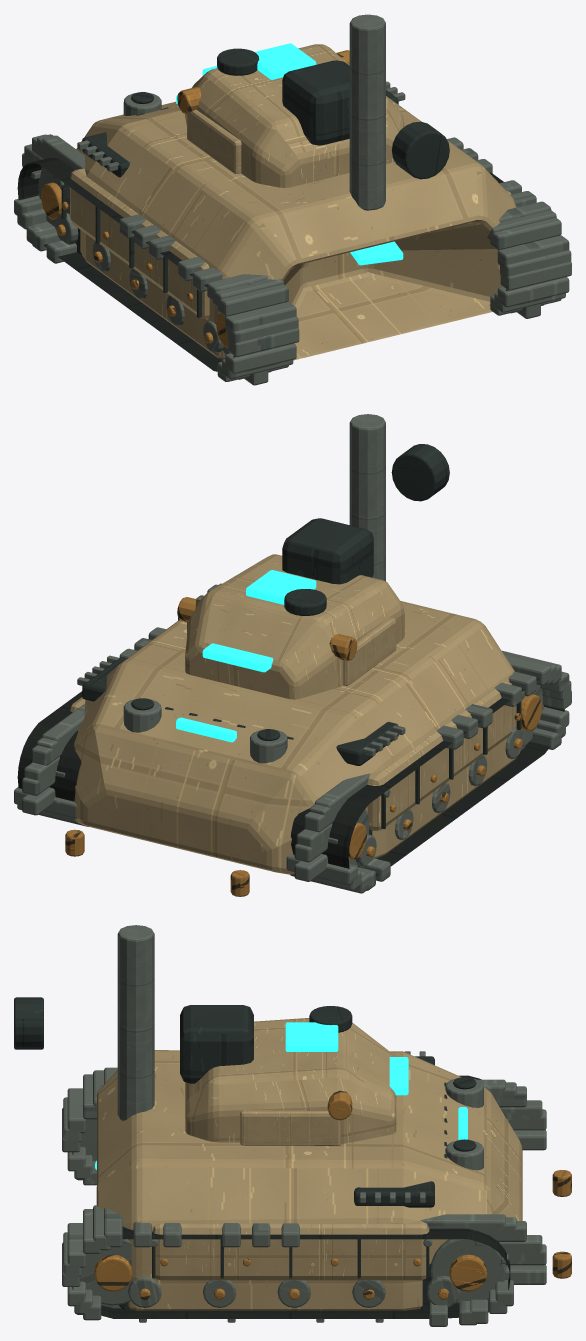
The model's file is tank.glb.
The picture shows the model from 3 angles, top to bottom: view 1: azimuth 30°, elevation 25°; view 2: azimuth 150°, elevation 25°; view 3: azimuth 270°, elevation 25°; orthographic projection.
Visible parts, largest first — view 1: Tank · welded six-facet armored hull, Static · Vehicle / track, Amboss Mbt · faceted traversing gunhouse, Static · Vehicle / dark, Long rifled cannon, Static · Vehicle / armor_light, Static · Vehicle / rubber, Static · Vehicle / steel, Static · Vehicle / hazard, Static · Vehicle / armor_light.001, TeamColor.001, Static · Vehicle / dark.001 (+1 smaller); view 2: Tank · welded six-facet armored hull, Amboss Mbt · faceted traversing gunhouse, Static · Vehicle / track, Static · Vehicle / dark, Static · Vehicle / rubber, Static · Vehicle / armor_light, Static · Vehicle / steel, Long rifled cannon, Static · Vehicle / hazard, TeamColor, Static · Vehicle / armor_light.001, TeamColor.001 (+1 smaller); view 3: Tank · welded six-facet armored hull, Static · Vehicle / track, Amboss Mbt · faceted traversing gunhouse, Static · Vehicle / armor_light, Static · Vehicle / steel, Static · Vehicle / dark, Long rifled cannon, Static · Vehicle / rubber, Static · Vehicle / hazard, Static · Vehicle / armor_light.001, TeamColor.001, TeamColor (+1 smaller).
Part boxes in pixels (<box>): Tank · welded six-facet armored hull: <box>76,96,516,360</box>; Static · Vehicle / track: <box>14,134,571,385</box>; Amboss Mbt · faceted traversing gunhouse: <box>185,44,404,187</box>; Static · Vehicle / dark: <box>61,60,449,317</box>; Long rifled cannon: <box>349,14,385,210</box>; Static · Vehicle / armor_light: <box>70,168,511,319</box>; Static · Vehicle / rubber: <box>17,158,559,371</box>; Static · Vehicle / steel: <box>31,81,551,379</box>; Static · Vehicle / hazard: <box>41,50,349,347</box>; Static · Vehicle / armor_light.001: <box>187,98,396,173</box>; TeamColor.001: <box>255,43,316,79</box>; Static · Vehicle / dark.001: <box>217,48,259,75</box>; Tank · welded six-facet armored hull: <box>74,601,516,874</box>; Amboss Mbt · faceted traversing gunhouse: <box>185,554,404,699</box>; Static · Vehicle / track: <box>14,583,571,893</box>; Static · Vehicle / dark: <box>63,444,521,867</box>; Static · Vehicle / rubber: <box>17,678,564,876</box>; Static · Vehicle / armor_light: <box>70,681,513,830</box>; Static · Vehicle / steel: <box>38,655,543,888</box>; Long rifled cannon: <box>349,414,385,581</box>; Static · Vehicle / hazard: <box>65,597,542,896</box>; TeamColor: <box>176,643,273,742</box>; Static · Vehicle / armor_light.001: <box>187,617,396,685</box>; TeamColor.001: <box>246,570,316,604</box>; Tank · welded six-facet armored hull: <box>96,1050,522,1310</box>; Static · Vehicle / track: <box>62,1067,546,1326</box>; Amboss Mbt · faceted traversing gunhouse: <box>185,1018,396,1143</box>; Static · Vehicle / armor_light: <box>152,1221,429,1280</box>; Static · Vehicle / steel: <box>80,1051,508,1322</box>; Static · Vehicle / dark: <box>14,997,476,1309</box>; Long rifled cannon: <box>117,925,154,1120</box>; Static · Vehicle / rubber: <box>72,1075,510,1318</box>; Static · Vehicle / hazard: <box>94,1090,571,1299</box>; Static · Vehicle / armor_light.001: <box>240,1110,341,1145</box>; TeamColor.001: <box>285,1022,338,1051</box>; TeamColor: <box>95,1057,467,1169</box>.
Bounding box in the file's own units: 2.24 × 1.98 × 3.18.
10 materials, 9 textured.
